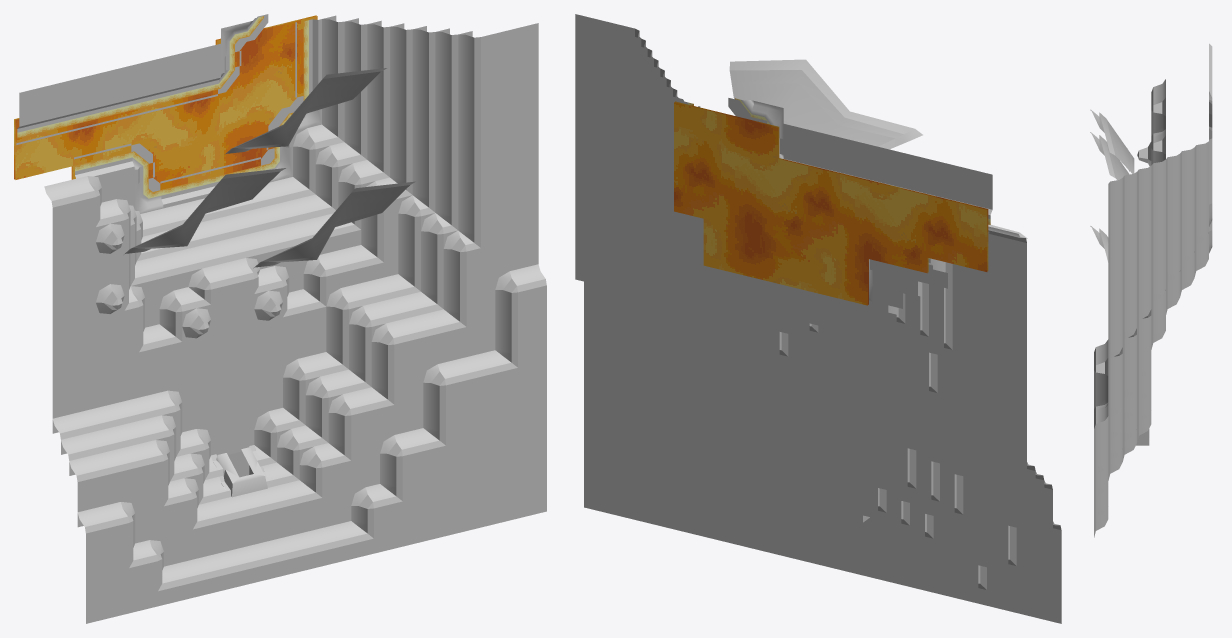
File: Mount-Undara-4_01_01.obj
3 views of the same model, side by side, from view 1: azimuth 30°, elevation 25°; view 2: azimuth 150°, elevation 25°; view 3: azimuth 270°, elevation 25° (orthographic). The views are drawn at different scales.
Parts seen in each view (by area): view 1: map; view 2: map; view 3: map.
Part boxes in pixels (bbox=[...]): map: bbox=[14, 14, 546, 623]; map: bbox=[575, 14, 1061, 623]; map: bbox=[1090, 43, 1212, 537].
Bounding box in the file's own units: 32 × 33 × 8.9.
